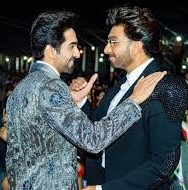Bad: (6, 4, 187, 190)
